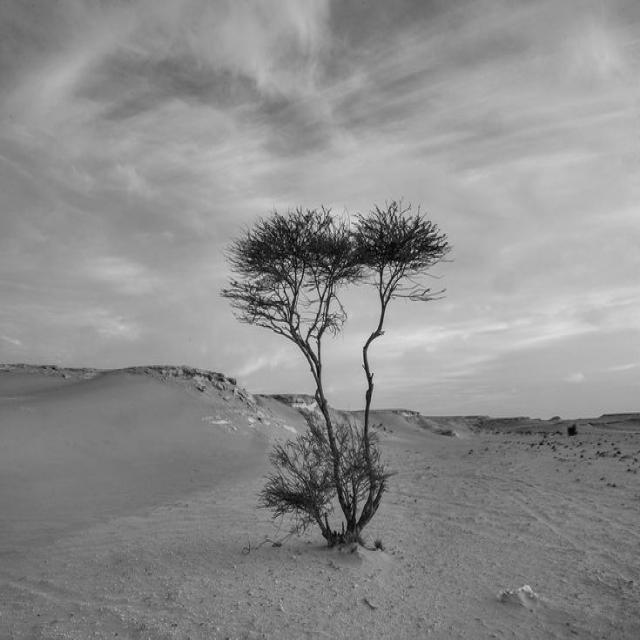Acacia: (237, 216, 437, 562)
